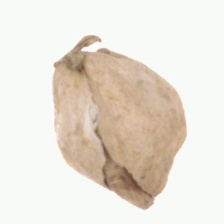L1: (96, 157, 160, 210), (54, 32, 107, 74)
L2: (51, 35, 187, 211)
